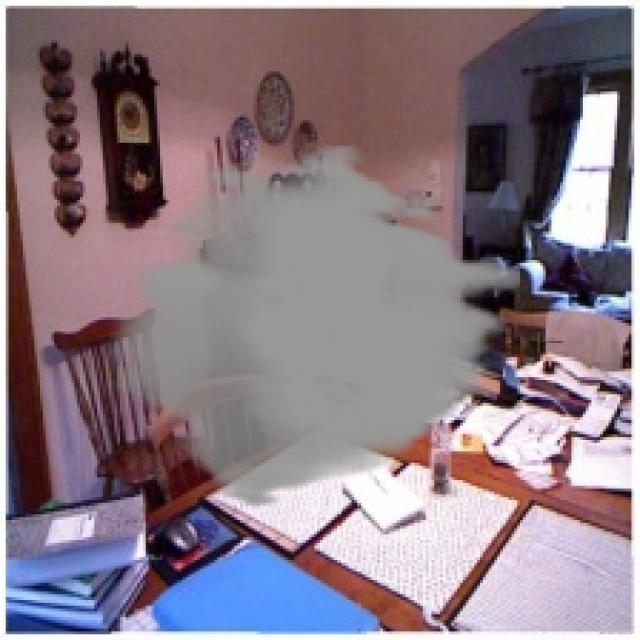Smoke: (108, 143, 520, 508)
